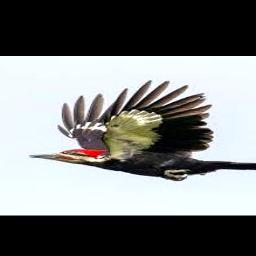Woodpecker: (27, 80, 256, 181)
